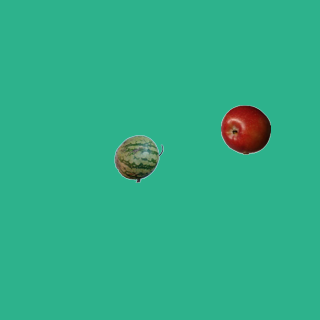Apple Braeburn: (220, 104, 270, 154)
Watermelon: (113, 133, 163, 183)
